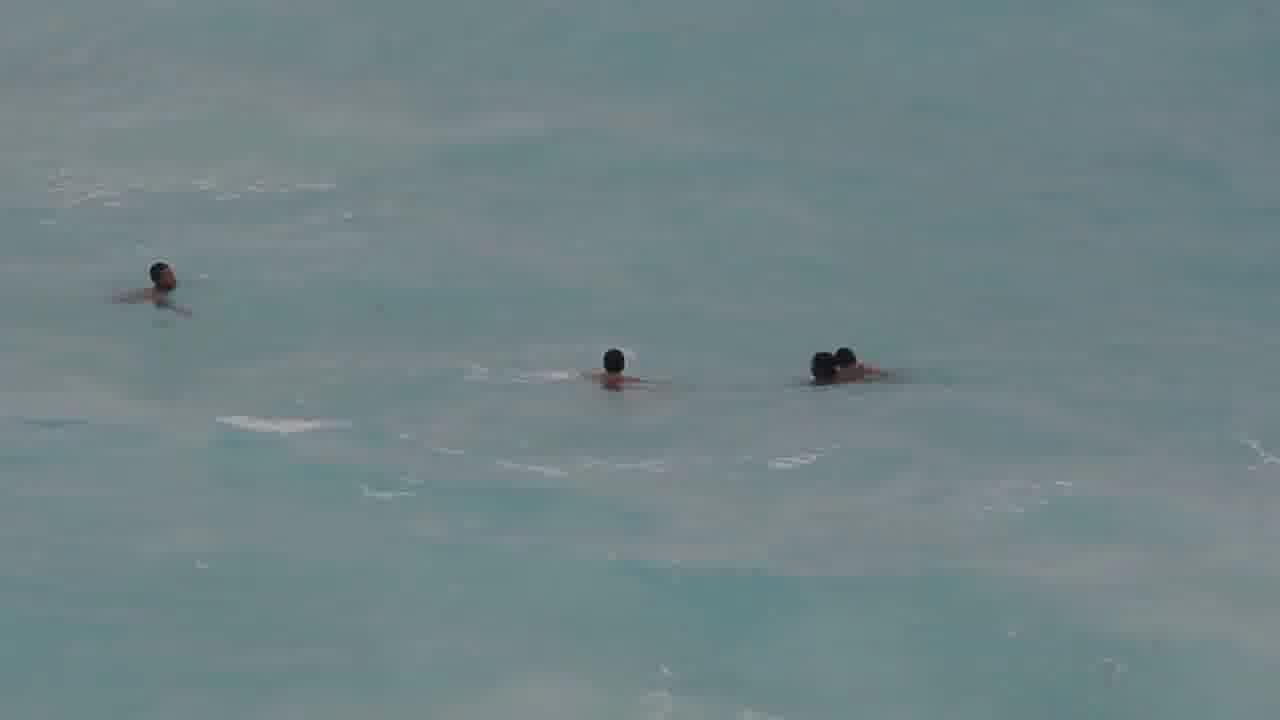human: (807, 337, 863, 406), (127, 251, 187, 311), (831, 327, 884, 389), (586, 337, 649, 388)
